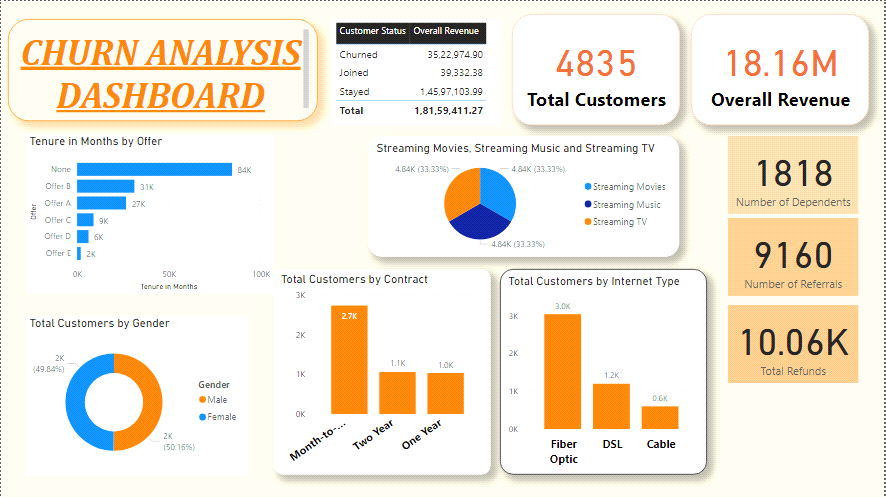

What the dashboard file says about the page in this screenshot:
{"tool":"powerbi","page":{"name":"Page 1","canvas":[1280,720],"ordinal":0},"visuals":[{"type":"card","fields":{"Values":["telecom_customer_churnproj.Overall Revenue"]},"box":[1000.8,19.1,258.4,161.3],"z":0},{"type":"card","fields":{"Values":["telecom_customer_churnproj.Total Customers"]},"box":[740.6,19.1,242.8,161.3],"z":4000},{"type":"columnChart","fields":{"Category":["telecom_customer_churnproj.Contract"],"Y":["telecom_customer_churnproj.Total Customers"]},"box":[395.4,388.5,313.9,298.3],"z":4001},{"type":"columnChart","fields":{"Y":["telecom_customer_churnproj.Total Customers"],"Category":["telecom_customer_churnproj.Internet Type"]},"box":[723.3,388.5,300.1,298.3],"z":4002},{"type":"tableEx","fields":{"Values":["telecom_customer_churnproj.Customer Status","telecom_customer_churnproj.Overall Revenue"]},"box":[480.4,26,242.8,154.4],"z":4003},{"type":"donutChart","fields":{"Category":["telecom_customer_churnproj.Gender"],"Y":["telecom_customer_churnproj.Total Customers"]},"box":[36.4,456.2,320.9,230.7],"z":4004},{"type":"barChart","fields":{"Category":["telecom_customer_churnproj.Offer"],"Y":["Sum(telecom_customer_churnproj.Tenure in Months)"]},"box":[36.4,192.5,359,230.7],"z":4005},{"type":"pieChart","fields":{"Y":["CountNonNull(telecom_customer_churnproj.Streaming Movies)","CountNonNull(telecom_customer_churnproj.Streaming Music)","CountNonNull(telecom_customer_churnproj.Streaming TV)"]},"box":[532.5,196,450.9,175.2],"z":4006},{"type":"card","fields":{"Values":["Sum(telecom_customer_churnproj.Number of Dependents)"]},"box":[1054.5,196,189.1,112.7],"z":4007},{"type":"card","fields":{"Values":["Sum(telecom_customer_churnproj.Number of Referrals)"]},"box":[1054.5,313.9,189.1,112.7],"z":4008},{"type":"card","fields":{"Values":["Sum(telecom_customer_churnproj.Total Refunds)"]},"box":[1054.5,440.5,189.1,112.7],"z":4009},{"type":"textbox","box":[10.2,26.2,448.5,148],"z":4010}]}

Visuals, with their boxes in screenshot pixels (x1, y1, x2, y2), scaled from the page's 1280x720 canvas onto the 886x497 screenshot:
card - telecom_customer_churnproj.Overall Revenue: box(693, 13, 872, 125)
card - telecom_customer_churnproj.Total Customers: box(513, 13, 681, 125)
columnChart - telecom_customer_churnproj.Contract x telecom_customer_churnproj.Total Customers: box(274, 268, 491, 474)
columnChart - telecom_customer_churnproj.Total Customers x telecom_customer_churnproj.Internet Type: box(501, 268, 708, 474)
tableEx - telecom_customer_churnproj.Customer Status x telecom_customer_churnproj.Overall Revenue: box(333, 18, 501, 125)
donutChart - telecom_customer_churnproj.Gender x telecom_customer_churnproj.Total Customers: box(25, 315, 247, 474)
barChart - telecom_customer_churnproj.Offer x Sum(telecom_customer_churnproj.Tenure in Months): box(25, 133, 274, 292)
pieChart - CountNonNull(telecom_customer_churnproj.Streaming Movies) x CountNonNull(telecom_customer_churnproj.Streaming Music): box(369, 135, 681, 256)
card - Sum(telecom_customer_churnproj.Number of Dependents): box(730, 135, 861, 213)
card - Sum(telecom_customer_churnproj.Number of Referrals): box(730, 217, 861, 294)
card - Sum(telecom_customer_churnproj.Total Refunds): box(730, 304, 861, 382)
textbox: box(7, 18, 318, 120)
